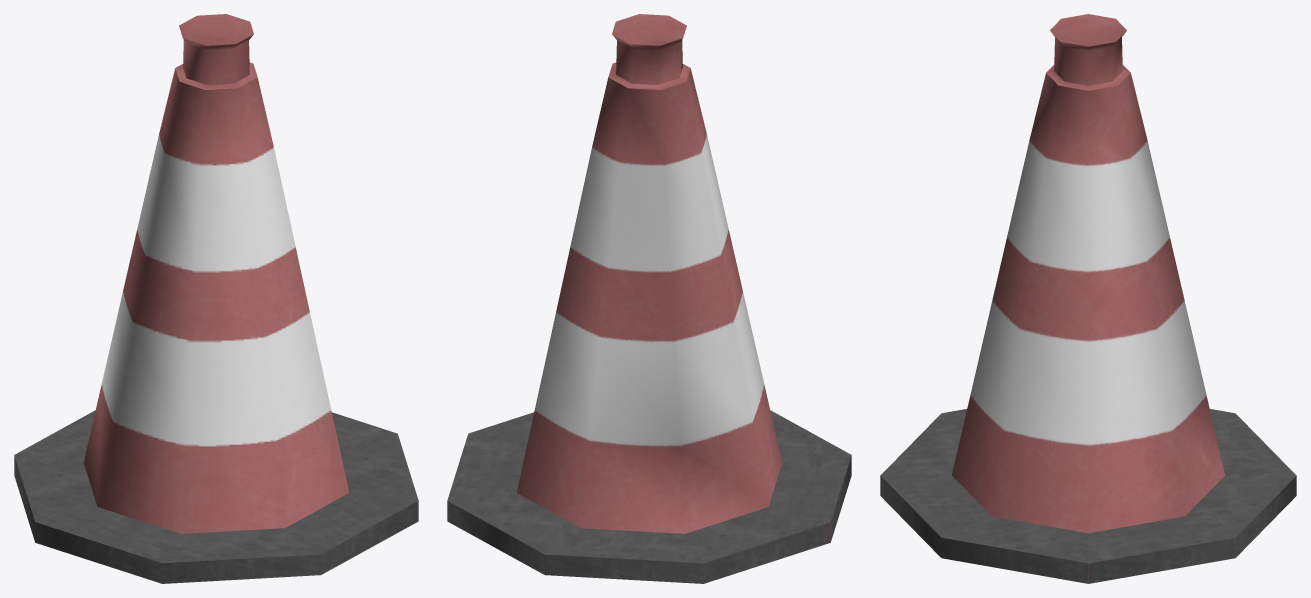
3 renders of one model, left to right at view 1: azimuth 30°, elevation 25°; view 2: azimuth 150°, elevation 25°; view 3: azimuth 270°, elevation 25°, orthographic.
Visible parts, largest first — view 1: SM_Cone; view 2: SM_Cone; view 3: SM_Cone.
Part boxes in pixels (x1,y1,x2,y2): SM_Cone: (14, 14, 418, 583); SM_Cone: (447, 14, 851, 583); SM_Cone: (880, 14, 1296, 583).
Bounding box in the file's own units: 0.4982 × 0.6169 × 0.4982.
